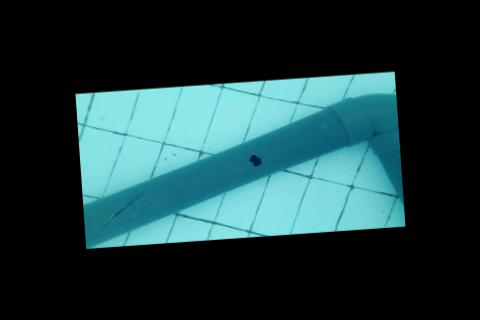kebocoran: (247, 151, 262, 166)
keretakan: (97, 191, 146, 230)
